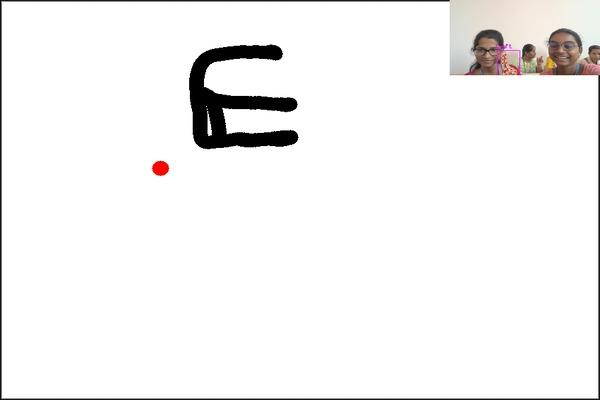E: (183, 40, 307, 153)
